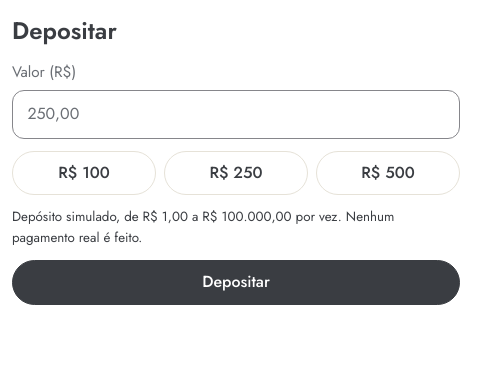
Test case: DepositForm validation (refuses before any request is made) › refuses 0,50 as outside the limits and says the limits
Type "0,50" into the field labelled "Valor (R$)" at (236, 114), box 12,90 -> 460,139
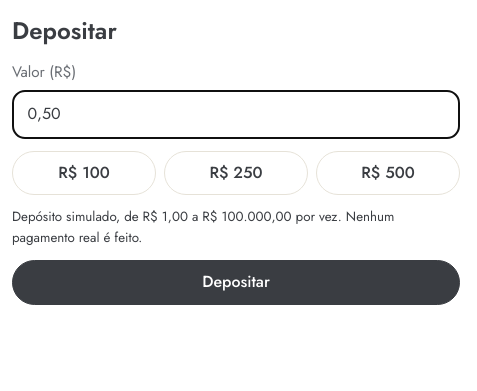
Click the button "Depositar" at (236, 283), box 12,260 -> 460,305
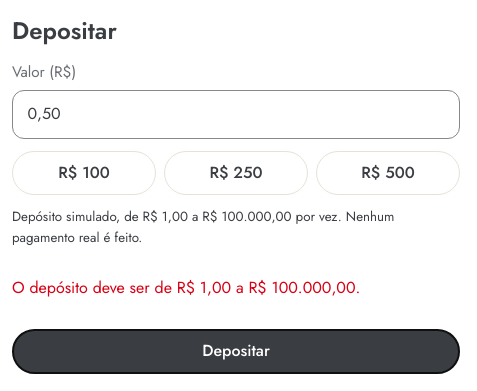
Expected: the message reads "O depósito deve ser de R$ 1,00 a R$ 100.000,00.", 12,276 -> 360,299
